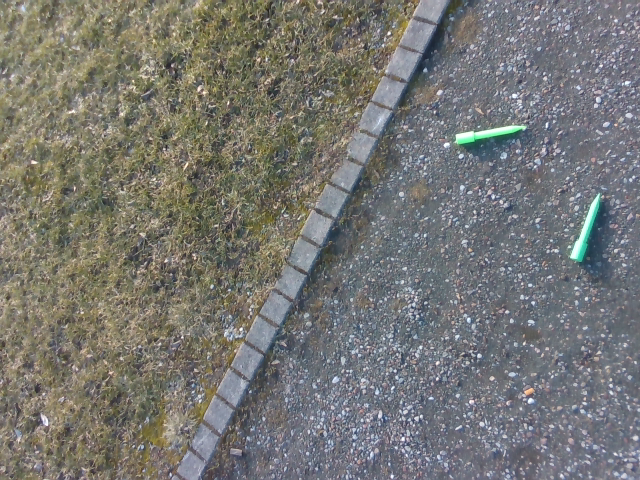Probe: (569, 187, 604, 267), (452, 119, 530, 149)
